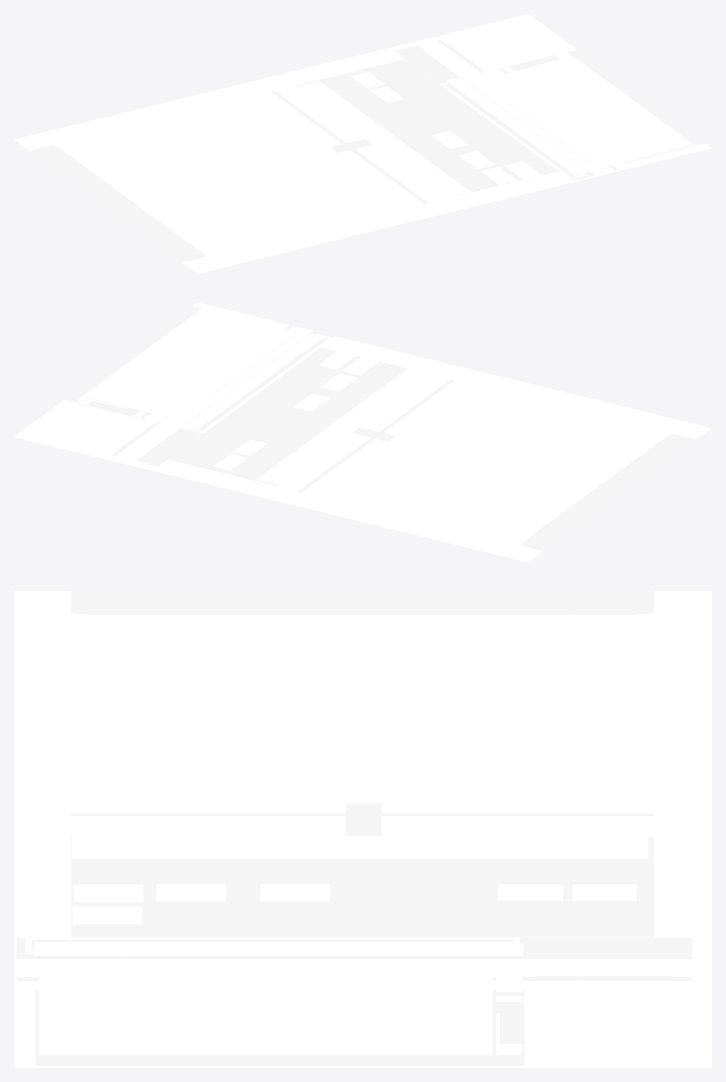
Rendered from cdu.glb.
3 renders of one model, top to bottom at view 1: azimuth 30°, elevation 25°; view 2: azimuth 150°, elevation 25°; view 3: azimuth 270°, elevation 25°, orthographic. The views are drawn at different scales.
Parts seen in each view (by area): view 1: cdu (×2), help_box, base, input (×3), search.click, l5p, l2p, l6p, l7p, l1p, l4p, l3p (+17 smaller); view 2: cdu (×2), help_box, base, input (×3), search.click, l1p, l3p, l4p, l6p, l2p, l7p, l5p (+17 smaller); view 3: cdu (×2), help_box, base, input (×3), search.click, select.6.click, select.5.click, select.4.click, select.3.click, select.2.click, select.0.click, l1p (+35 smaller).
Boxes of the visible parts, left/top/right/bottom form: cdu (×2): left=46, top=14, right=711, bottom=265; help_box: left=394, top=17, right=710, bottom=180; base: left=14, top=132, right=228, bottom=273; input (×3): left=108, top=80, right=473, bottom=243; search.click: left=446, top=77, right=587, bottom=174; l5p: left=306, top=156, right=399, bottom=215; l2p: left=227, top=175, right=321, bottom=234; l6p: left=331, top=150, right=424, bottom=209; l7p: left=356, top=144, right=449, bottom=203; l1p: left=202, top=182, right=295, bottom=241; l4p: left=279, top=162, right=372, bottom=221; l3p: left=254, top=169, right=347, bottom=228; cdu (×2): left=14, top=336, right=679, bottom=554; help_box: left=20, top=302, right=335, bottom=466; base: left=497, top=420, right=711, bottom=562; input (×3): left=253, top=368, right=619, bottom=530; search.click: left=182, top=333, right=323, bottom=430; l1p: left=514, top=409, right=607, bottom=468; l3p: left=462, top=396, right=555, bottom=455; l4p: left=436, top=390, right=530, bottom=449; l6p: left=385, top=377, right=478, bottom=436; l2p: left=488, top=403, right=581, bottom=462; l7p: left=360, top=371, right=453, bottom=430; l5p: left=410, top=383, right=503, bottom=442; cdu (×2): left=14, top=620, right=711, bottom=1067; help_box: left=16, top=937, right=692, bottom=1065; base: left=14, top=591, right=711, bottom=620; input (×3): left=70, top=662, right=648, bottom=861; search.click: left=34, top=942, right=523, bottom=954; select.6.click: left=39, top=1031, right=492, bottom=1042; select.5.click: left=39, top=1020, right=492, bottom=1031; select.4.click: left=39, top=1009, right=492, bottom=1020; select.3.click: left=39, top=998, right=492, bottom=1009; select.2.click: left=39, top=987, right=492, bottom=998; select.0.click: left=39, top=964, right=492, bottom=975; l1p: left=62, top=673, right=345, bottom=691.
Size of the model in its own units: 0.271 by 0.00101 by 0.1676.
Materials: 5 (5 with a texture image).
